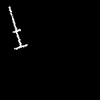double_crochet: (9, 7, 26, 48)
